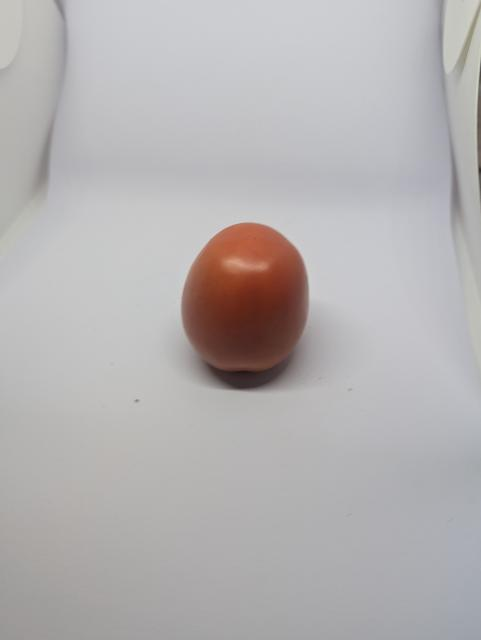red: (156, 224, 359, 412)
